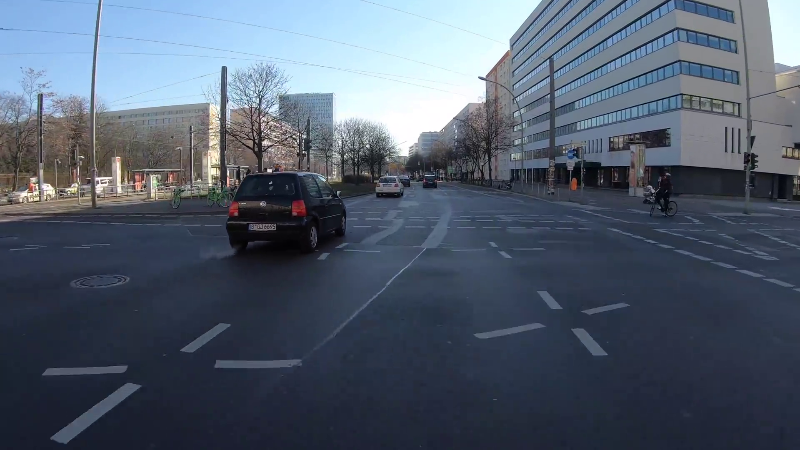Plate: (245, 221, 278, 232)
